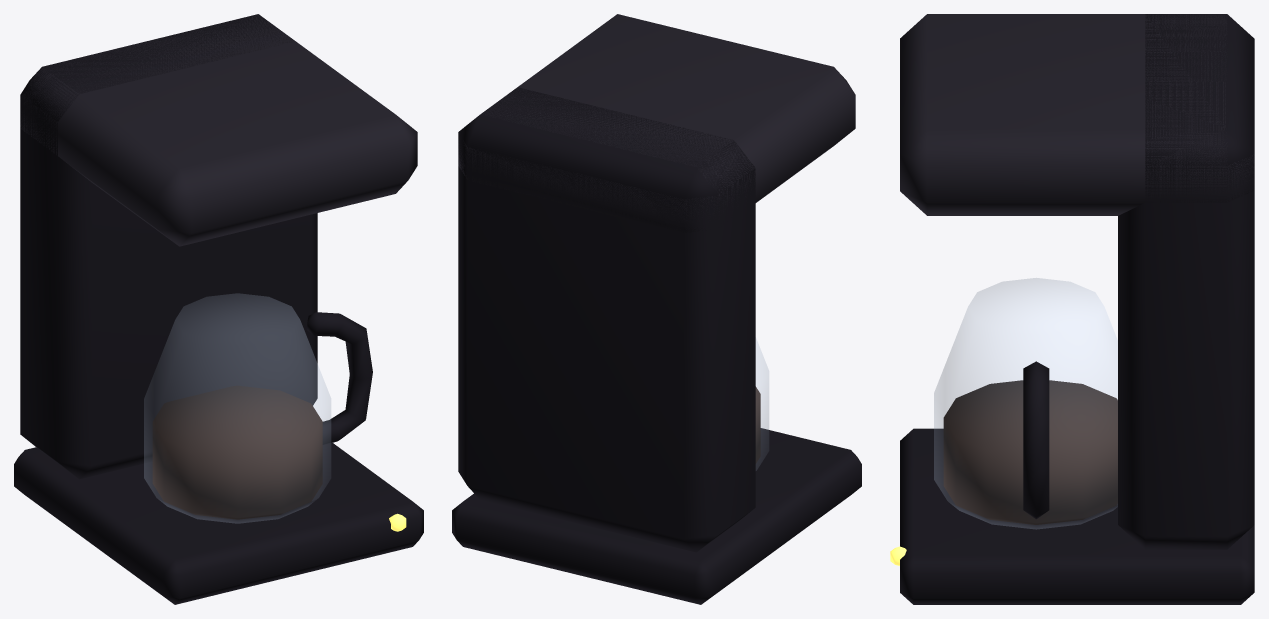
Rendered from coffee_maker.glb.
The picture shows the model from 3 angles, left to right: view 1: azimuth 30°, elevation 25°; view 2: azimuth 150°, elevation 25°; view 3: azimuth 270°, elevation 25°; orthographic projection. The views are drawn at different scales.
Parts seen in each view (by area): view 1: coffee_maker; view 2: coffee_maker; view 3: coffee_maker.
Boxes of the visible parts, left/top/right/bottom form: coffee_maker: left=14, top=14, right=423, bottom=604; coffee_maker: left=452, top=14, right=861, bottom=604; coffee_maker: left=890, top=14, right=1254, bottom=604.
Size of the model in its own units: 0.245 by 0.38 by 0.2669.
